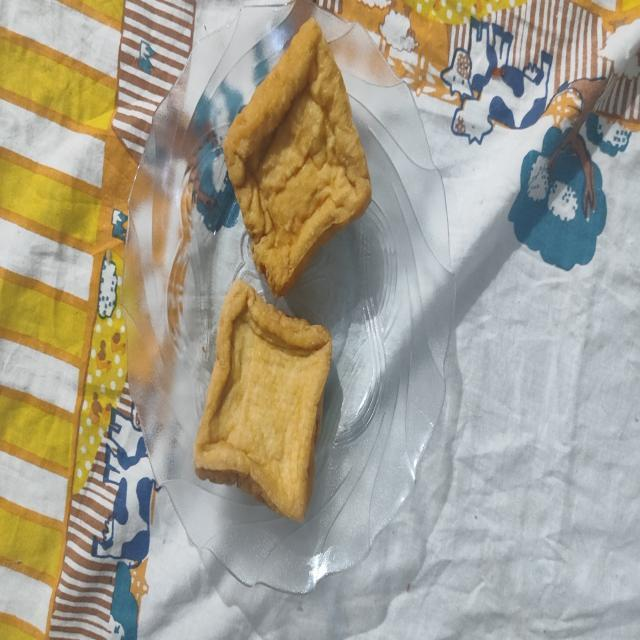tahu_goreng: (223, 20, 371, 296), (194, 280, 332, 520)
